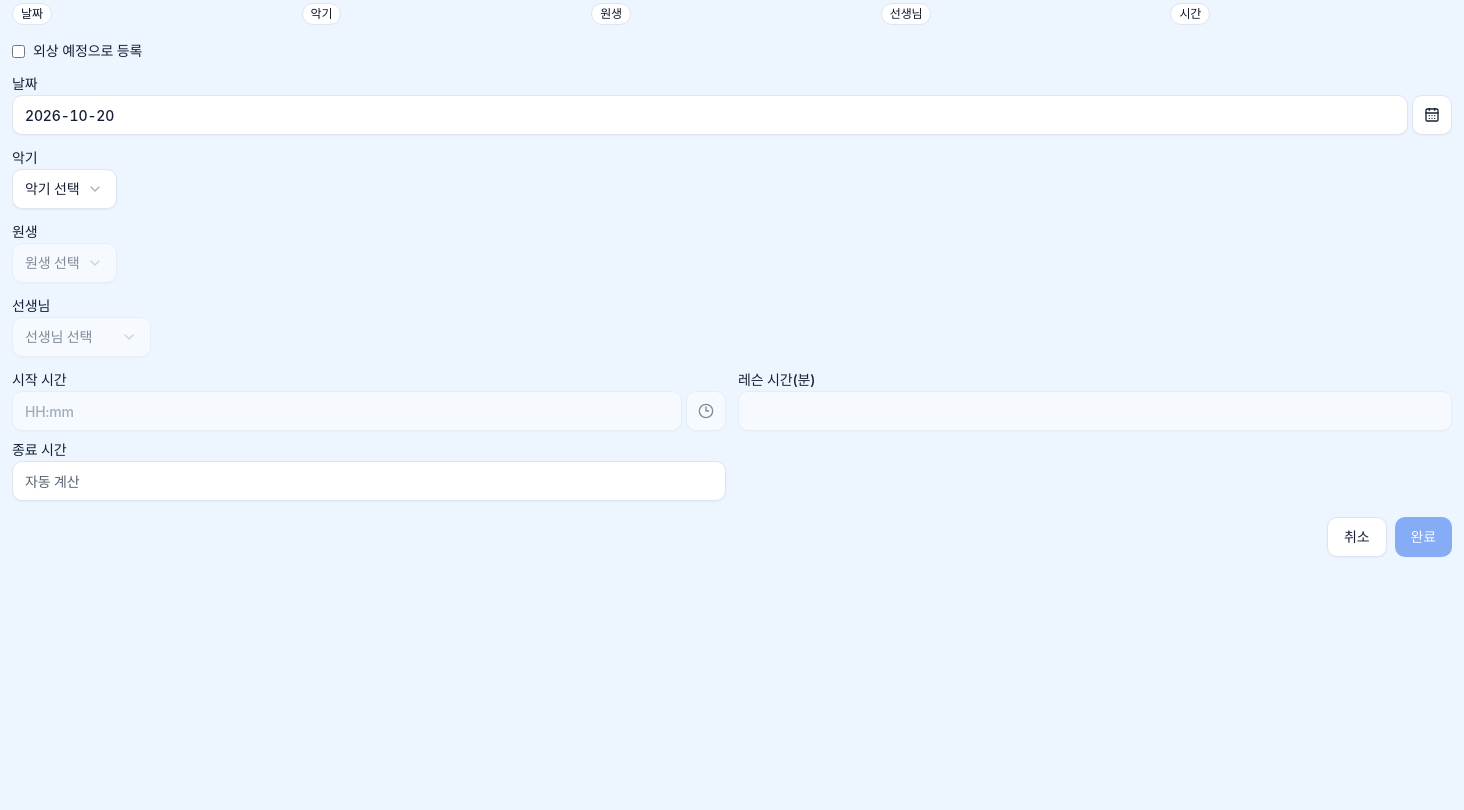
Scenario: 개인레슨 일정 등록 예약 › 날짜·악기 다음에 예약 가능한 원생만 표시하고 실제 잔여와 예약 가능 수를 분리한다
This screenshot has width=1464, height=810.
expect the field labelled "날짜" holds "2026-10-20": met, box [12, 95, 1408, 135]
Select "피아노" in the dropdown labelled "악기" at [64, 189], box [12, 169, 117, 209]
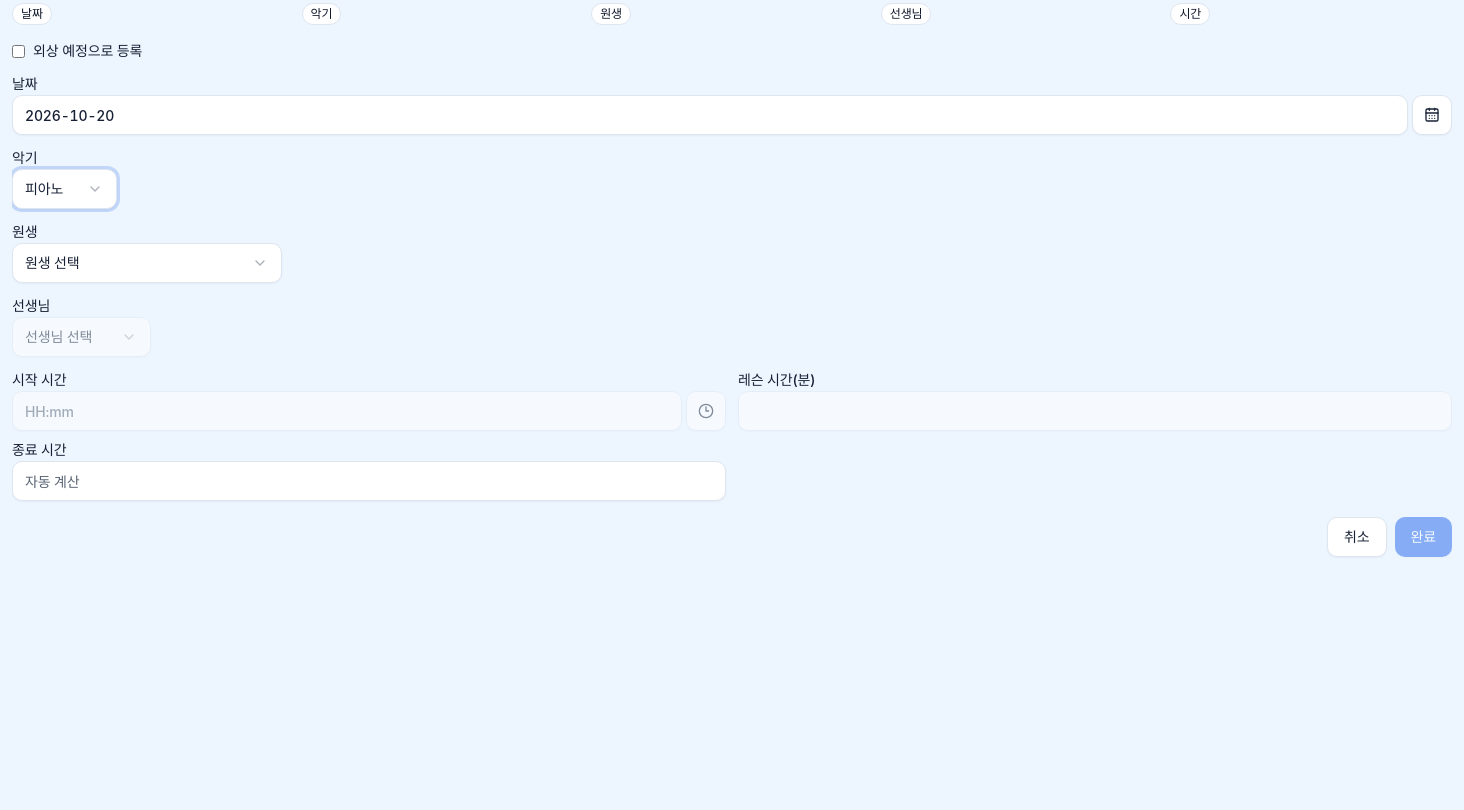
Select "김민지 · 예약 가능 3회 · 실제 잔여 4회" in the dropdown labelled "원생" at [147, 263], box [12, 243, 282, 283]
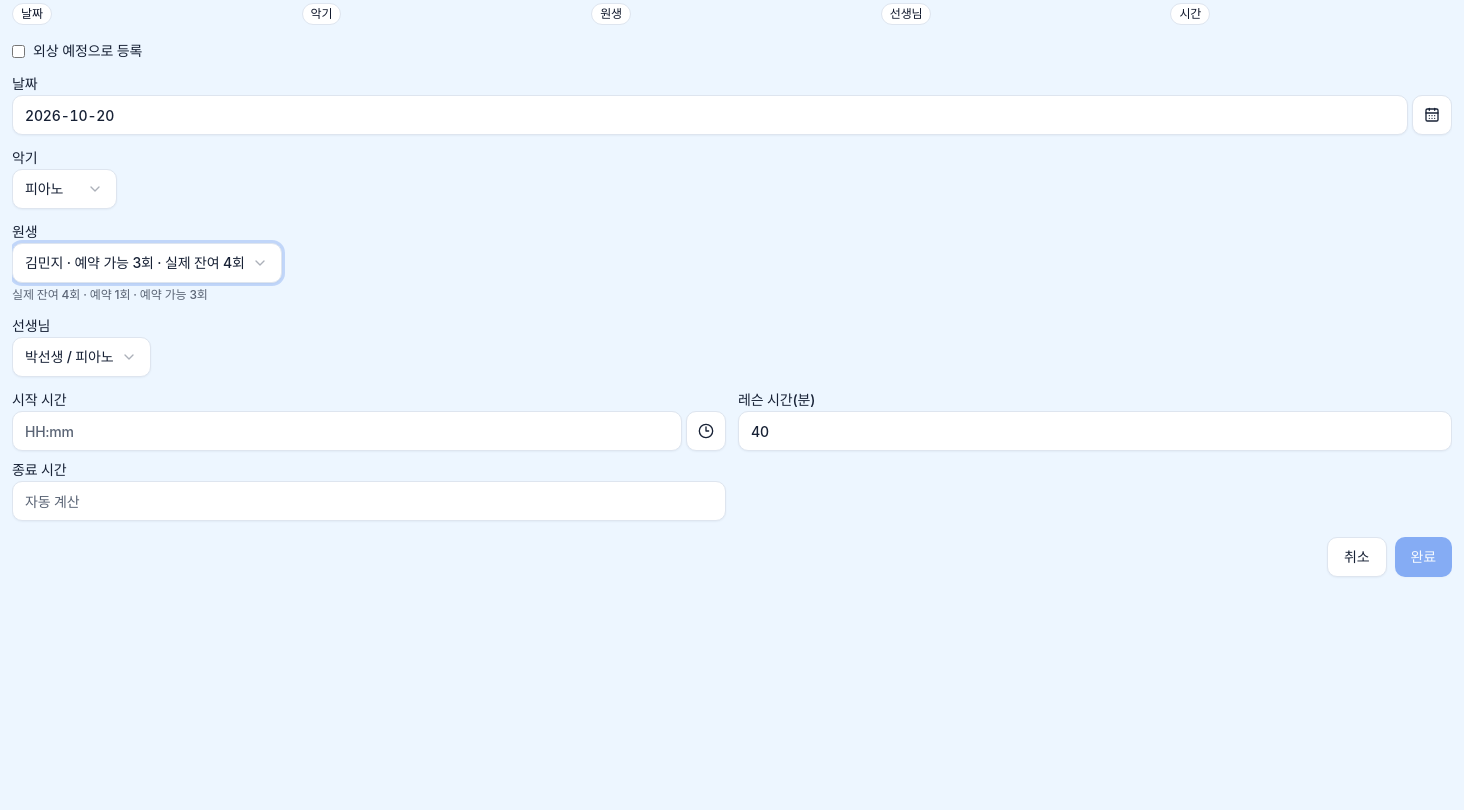
expect the text "실제 잔여 4회 · 예약 1회 · 예약 가능 3회" is shown: met, box [12, 287, 208, 302]
